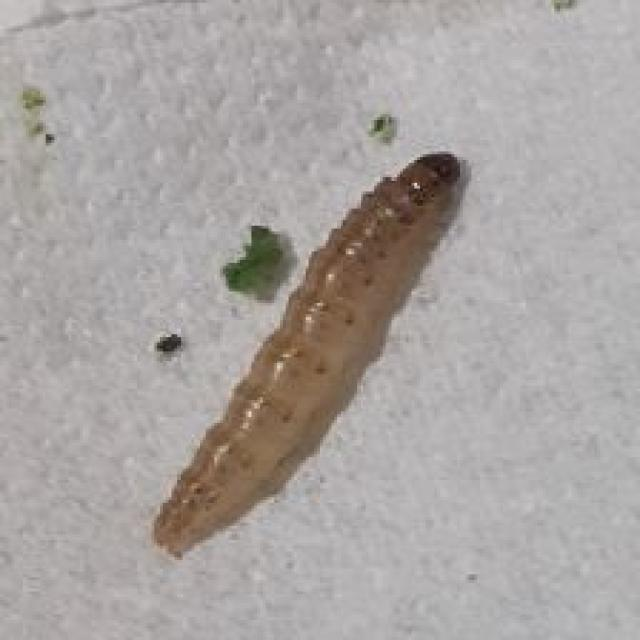white mucus: (151, 129, 466, 560)
